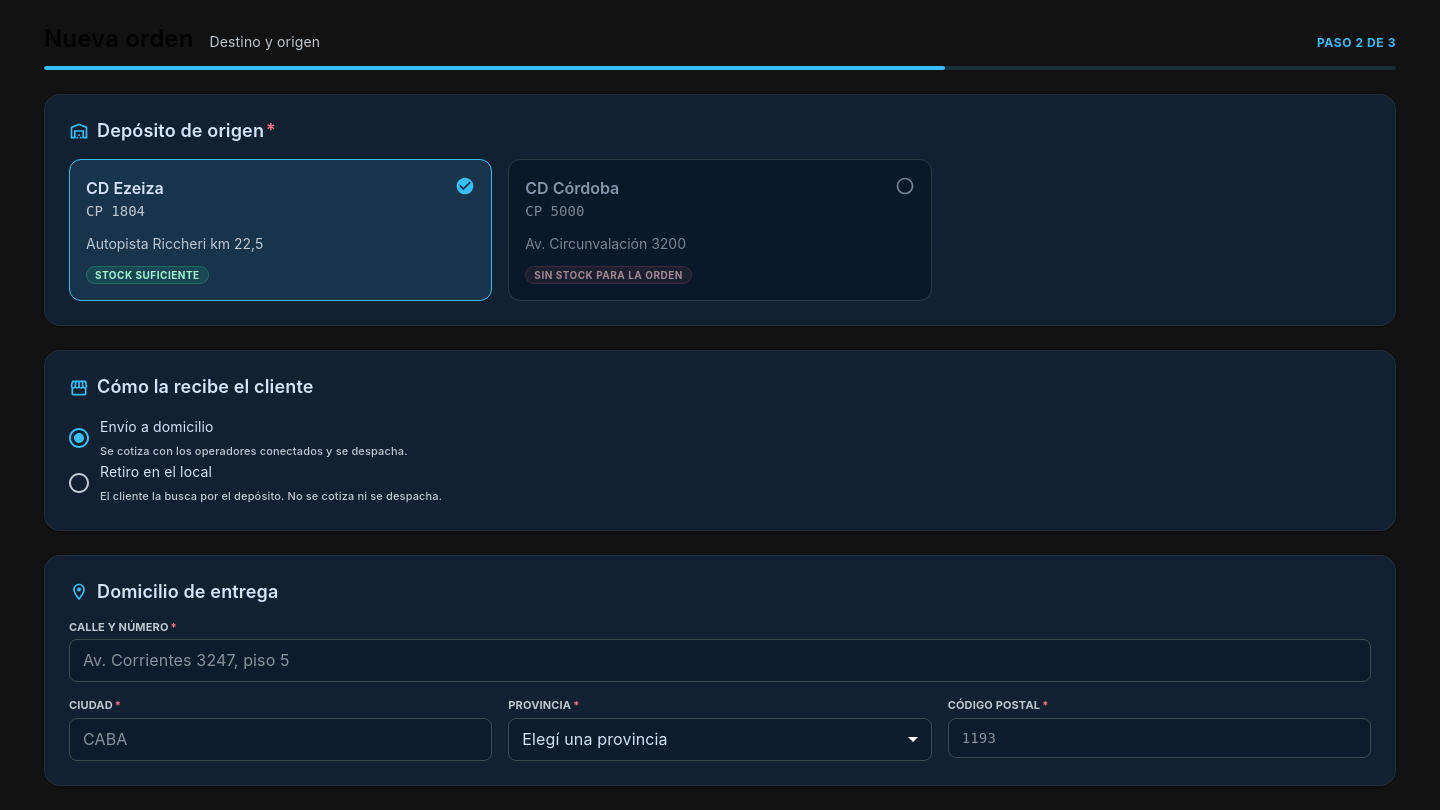
Test: ShippingStepPage · pickup at the store › says the address is optional instead of demanding it
The image size is (1440, 810).
Click the radio button labelled "Retiro en el local" at [156, 471], box [67,463,442,503]
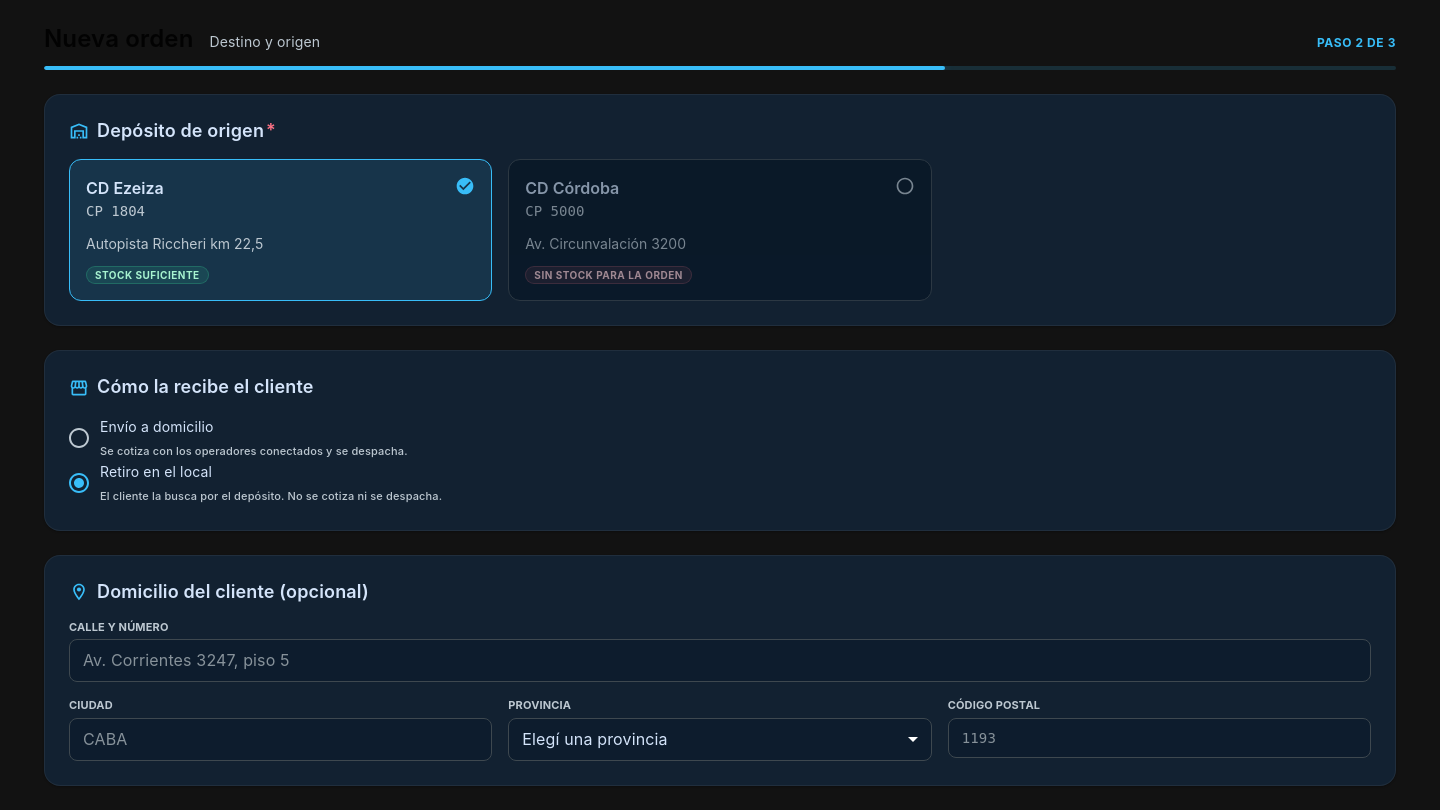
Expected: the heading "Domicilio del cliente (opcional)" is shown, [97,580,369,604]
